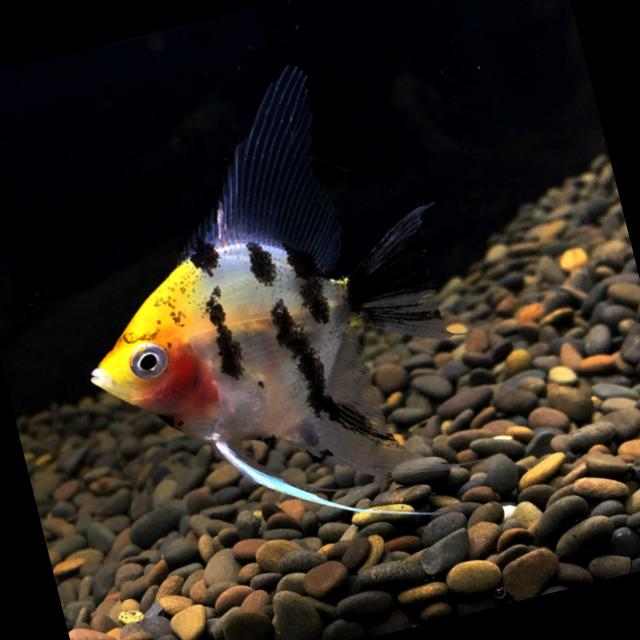AngelFish: (28, 37, 508, 586)
